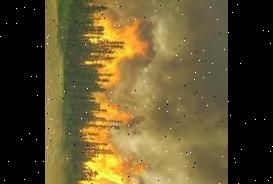fire: (70, 102, 143, 184), (89, 14, 152, 66), (93, 68, 124, 88)
